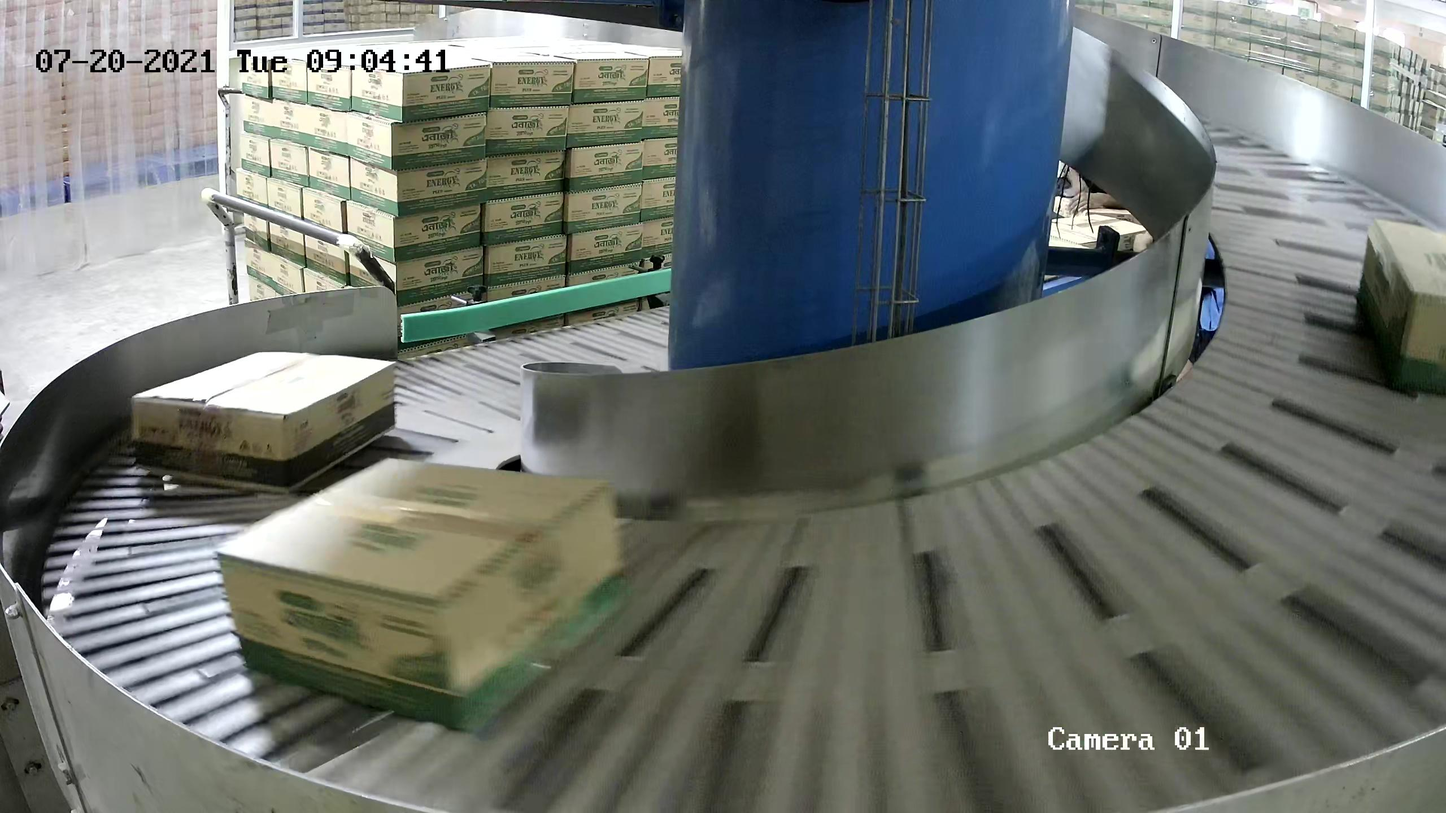Box: (215, 455, 633, 733), (130, 351, 398, 496), (1354, 217, 1446, 398)
